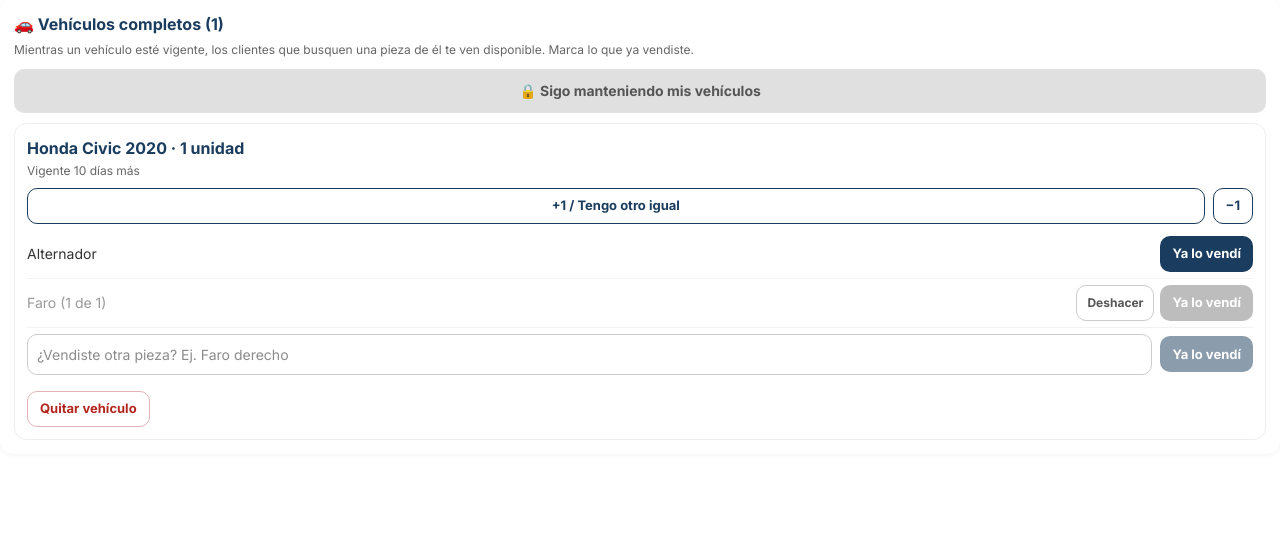
Test: sección "Vehículos completos" › Básico: "Sigo manteniendo mis vehículos" se ve pero explica que es Premium y no renueva
Click the button "🔒 Sigo manteniendo mis vehículos" at (640, 91), box [14,69,1266,113]
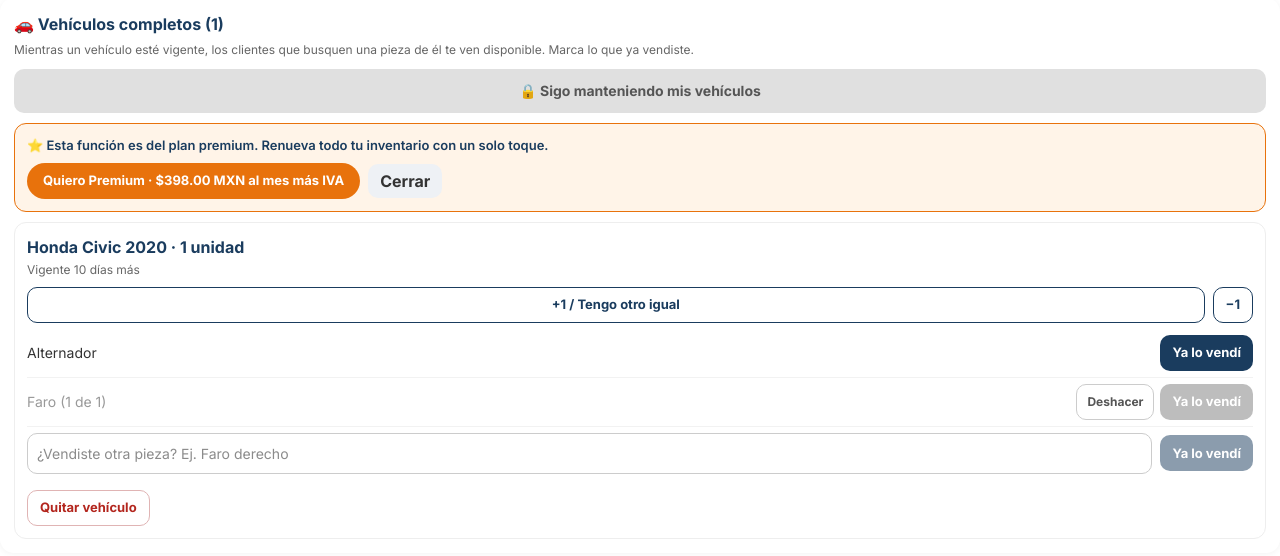
Result: the text "Esta función es del plan premium. Renueva todo tu inventario con un solo toque." is shown at [46,137,548,153]
Result: the link "Quiero Premium · $398.00 MXN al mes más IVA" is shown at [27,163,360,199]
